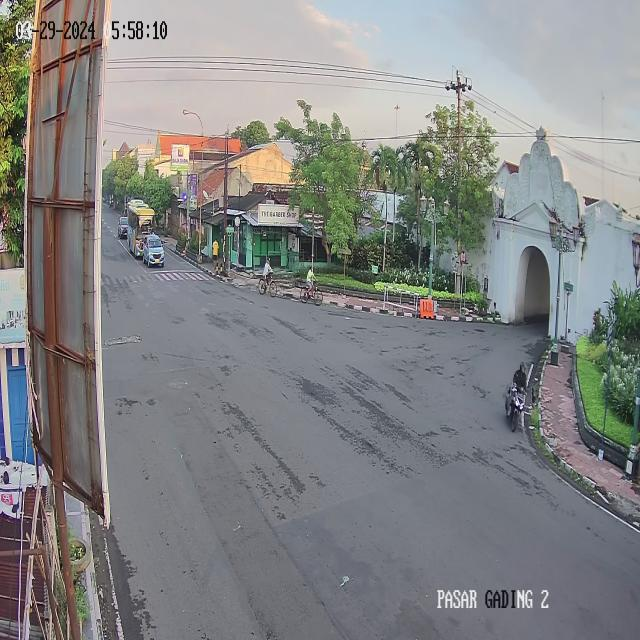bus: (128, 203, 156, 260), (127, 198, 149, 223)
car: (142, 231, 166, 269), (117, 216, 130, 240)
motorcycle: (504, 358, 530, 436)
